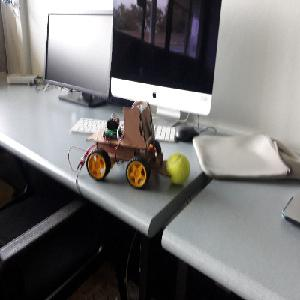Ball: (167, 154, 190, 185)
Robot: (85, 100, 171, 190)
